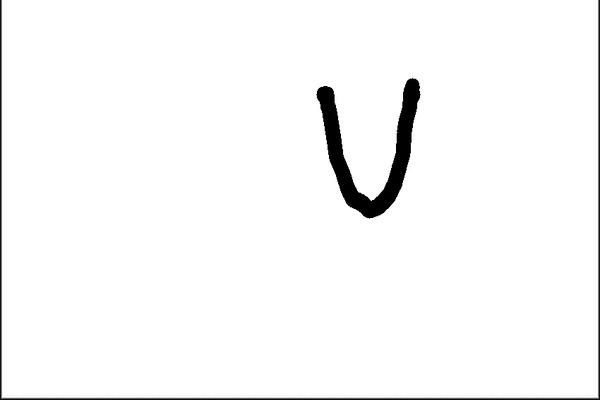U: (309, 75, 425, 218)
